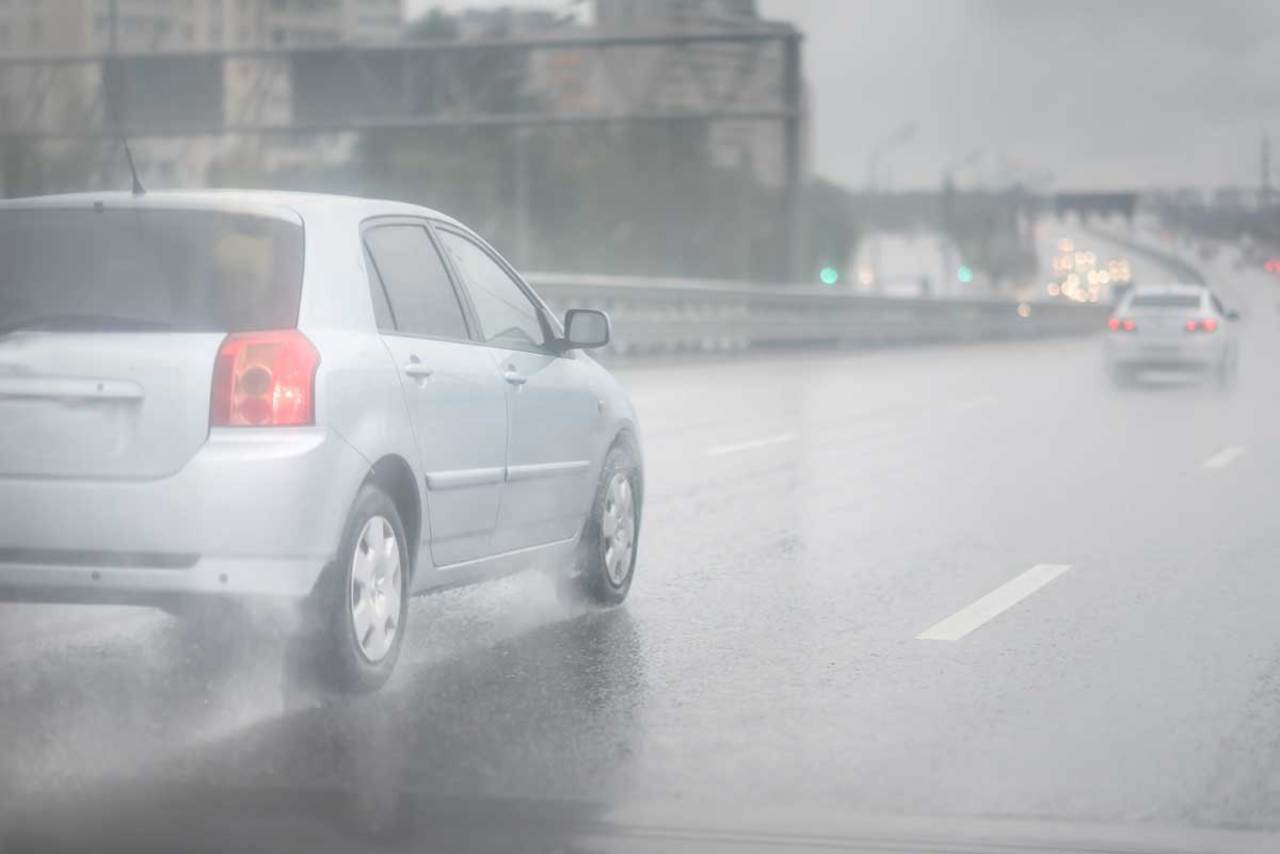car: (0, 186, 655, 679), (1103, 287, 1235, 388)
